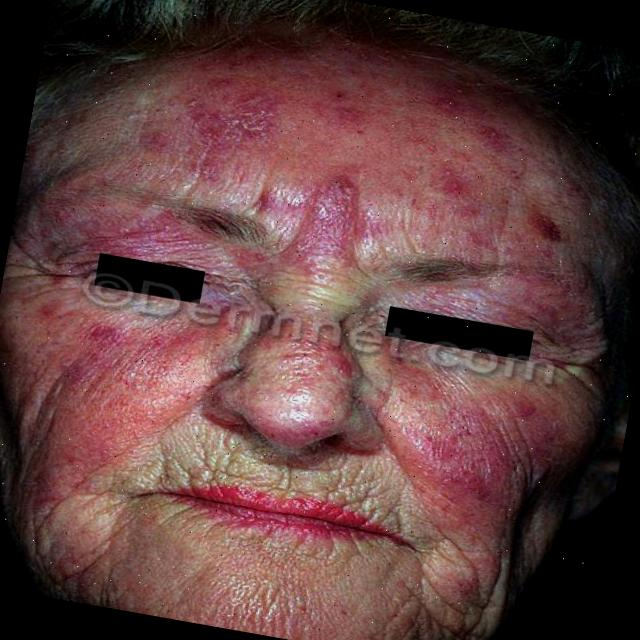skinredness: (0, 9, 640, 547)
